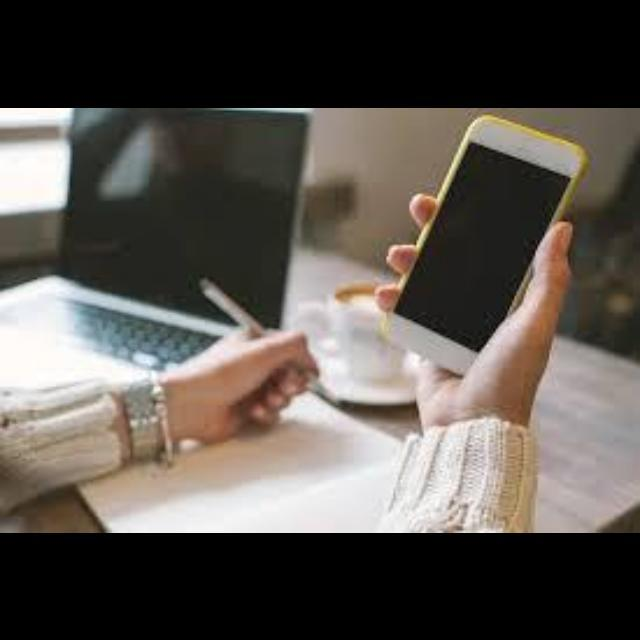Phone: (380, 113, 588, 375)
